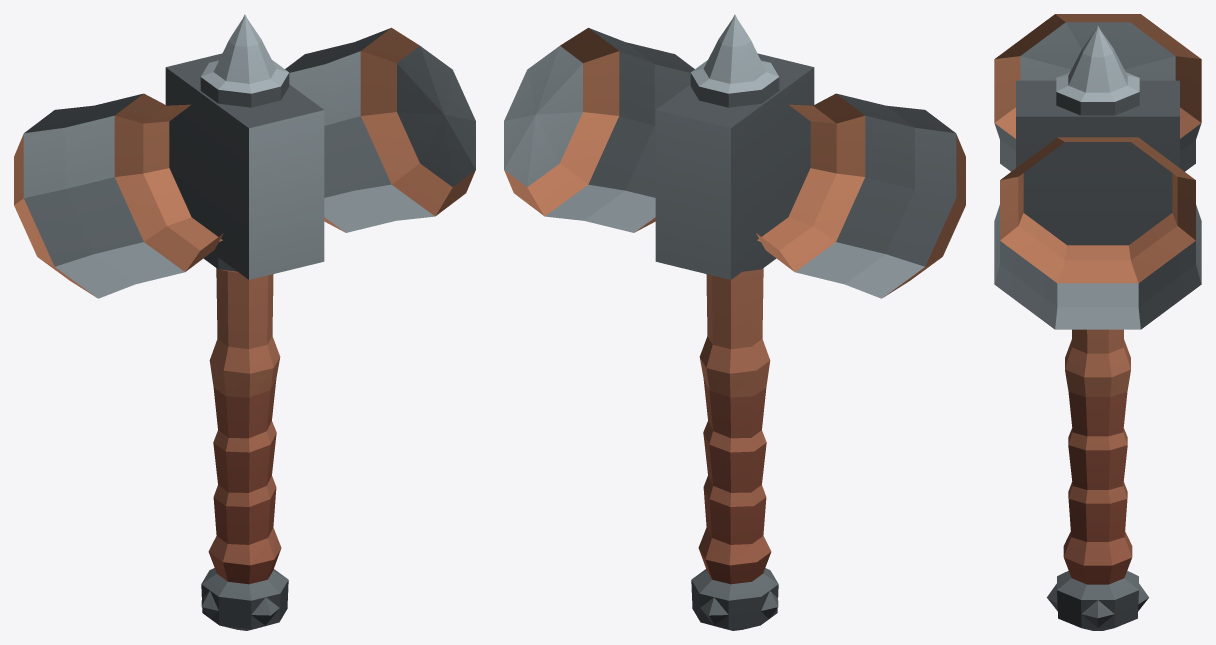
Rendered from source.glb.
3 views of the same model, side by side, from view 1: azimuth 30°, elevation 25°; view 2: azimuth 150°, elevation 25°; view 3: azimuth 270°, elevation 25° (orthographic).
Parts seen in each view (by area): view 1: model; view 2: model; view 3: model.
Part boxes in pixels (<box>): model: <box>14,14,475,630</box>; model: <box>504,14,965,630</box>; model: <box>994,14,1201,630</box>.
Size of the model in its own units: 0.96 by 1.42 by 0.44.
Materials: 1 (1 with a texture image).
